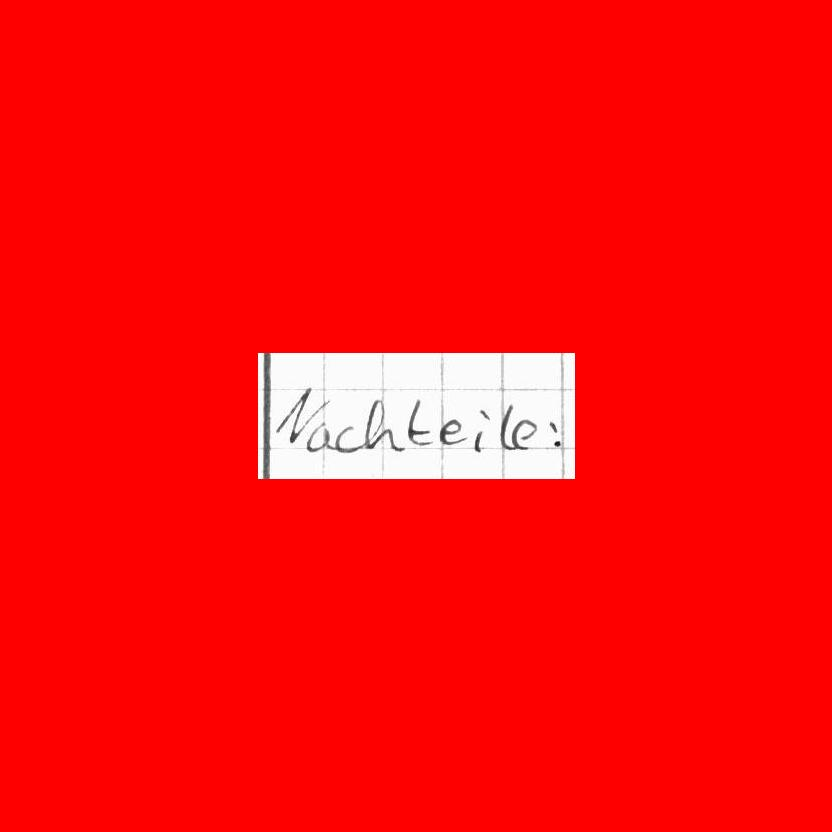Char: (273, 384, 318, 447), (365, 394, 407, 454), (405, 397, 436, 447), (472, 406, 494, 454), (303, 418, 332, 452), (510, 416, 537, 452), (439, 416, 469, 446), (335, 422, 361, 455), (499, 400, 515, 451), (548, 417, 563, 449)
